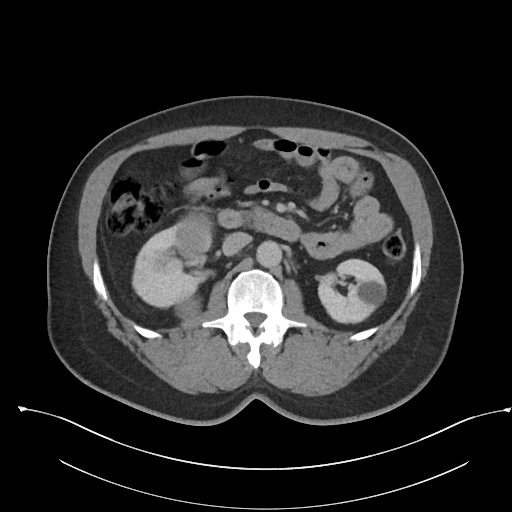Lesion: (354, 277, 390, 311)
